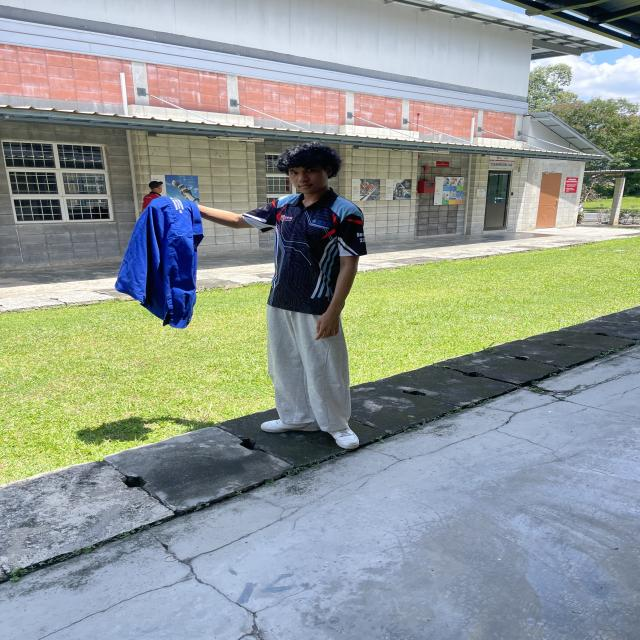person_without_labcoat: (115, 143, 367, 450)
